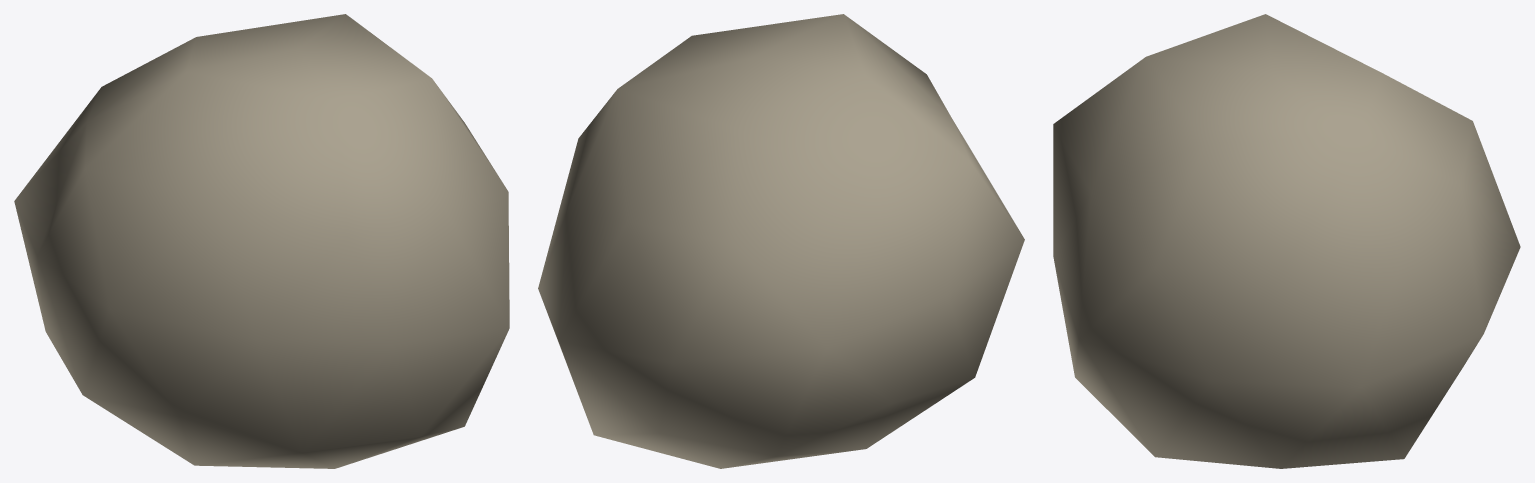
Rendered from material-stone-1.glb.
The picture shows the model from 3 angles, left to right: view 1: azimuth 30°, elevation 25°; view 2: azimuth 150°, elevation 25°; view 3: azimuth 270°, elevation 25°; orthographic projection. The views are drawn at different scales.
Visible parts, largest first — view 1: Stone.001; view 2: Stone.001; view 3: Stone.001.
Part boxes in pixels (bbox=[...]): Stone.001: bbox=[14, 14, 509, 468]; Stone.001: bbox=[538, 14, 1024, 468]; Stone.001: bbox=[1053, 14, 1520, 468].
Bounding box in the file's own units: 0.9118 × 0.8322 × 0.954.
